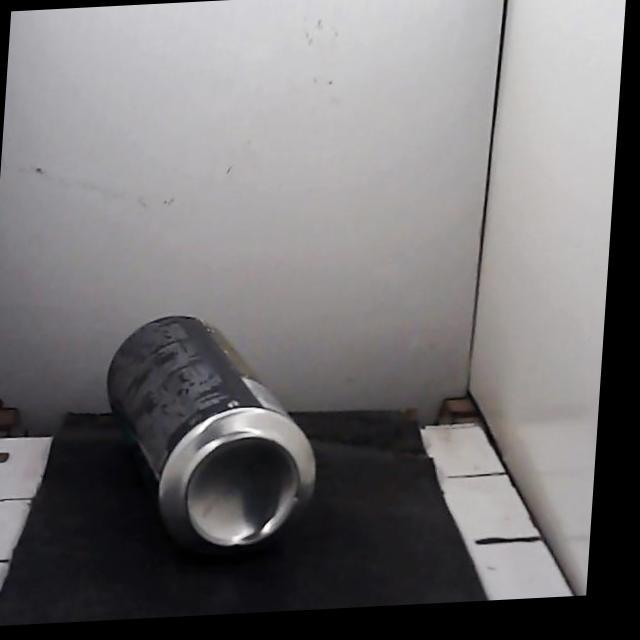metal: (107, 316, 315, 552)
